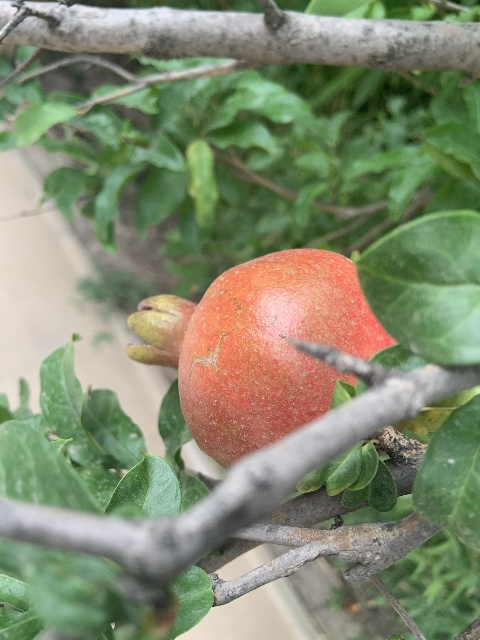ripe: (123, 248, 396, 468)
